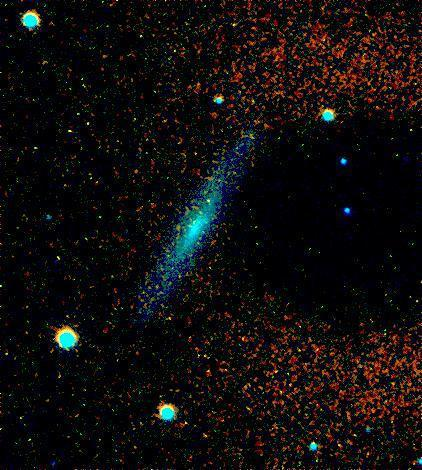star: (204, 189, 234, 219)
